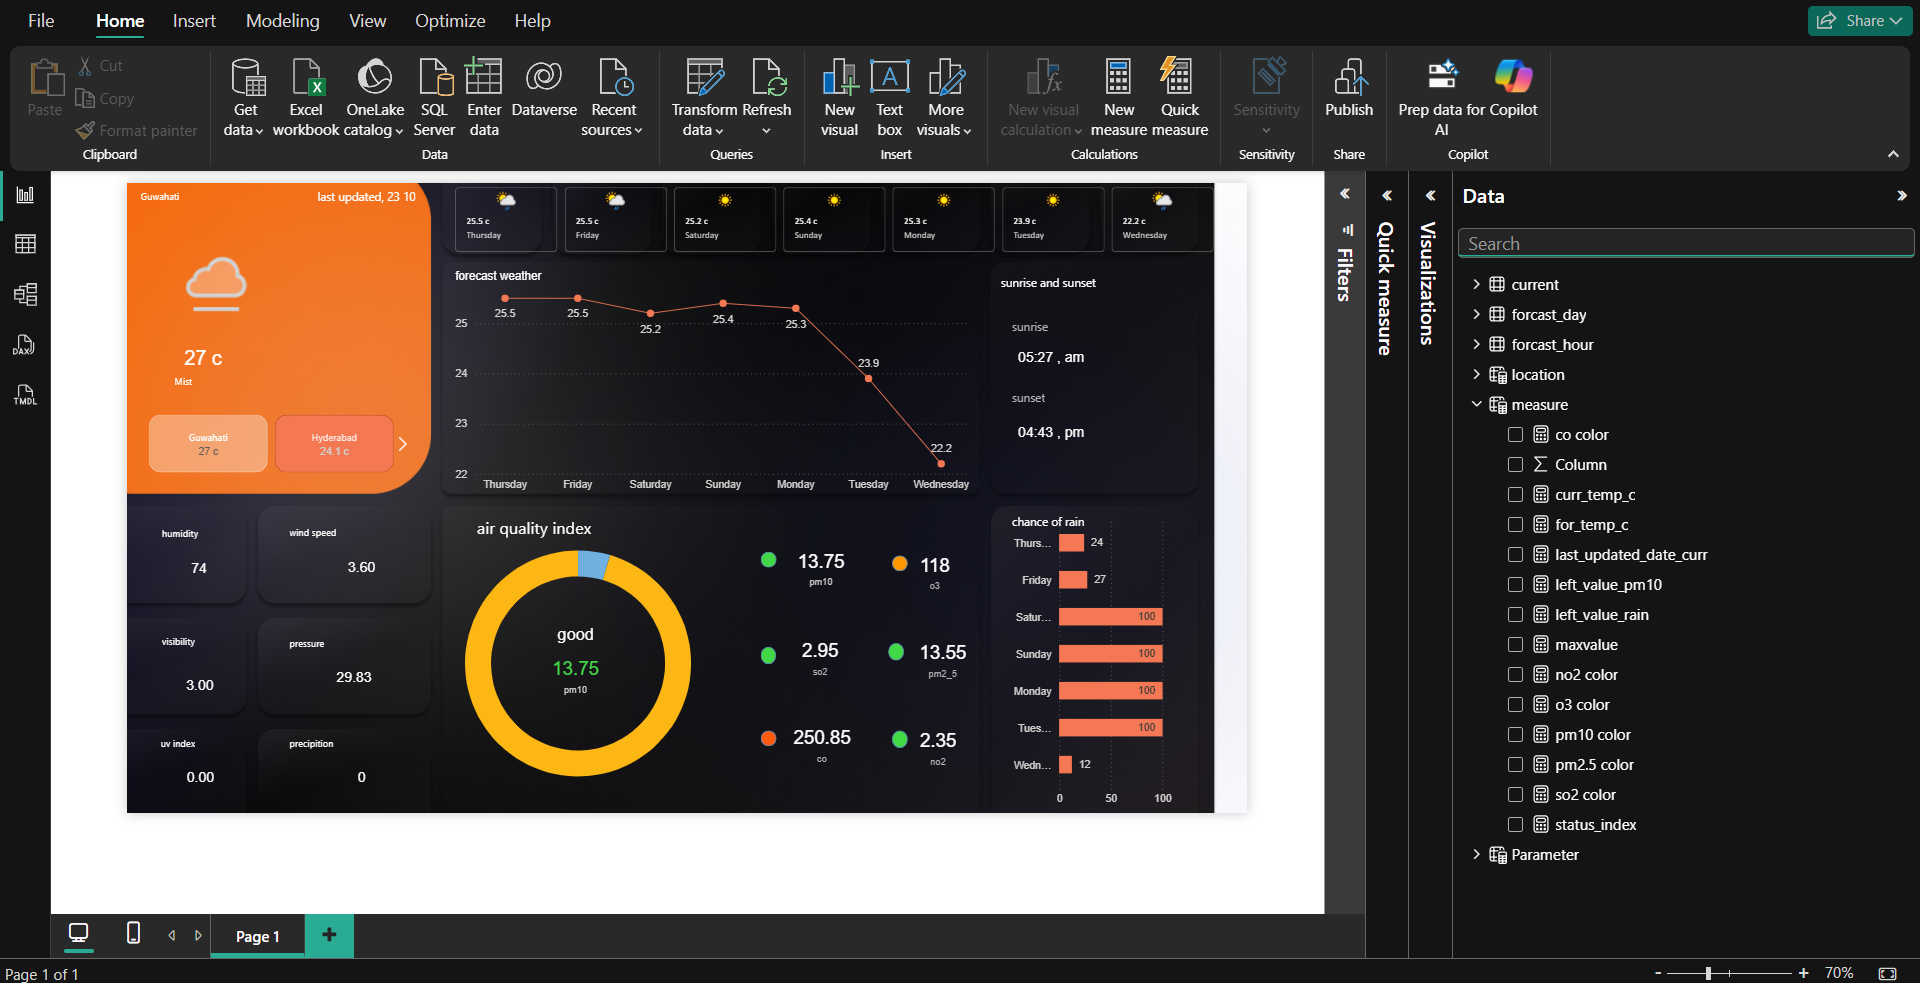

The page's visual inventory and layout, read from the dashboard file:
{"tool":"powerbi","page":{"name":"Page 1","canvas":[1280,720],"ordinal":0},"visuals":[{"type":"advancedSlicerVisual","fields":{"Values":["location.location.name"],"Label":["measure.curr_temp_c"]},"box":[0,260,330,76],"z":0},{"type":"card","fields":{"Values":["measure.curr_temp_c"]},"box":[0,182,174,38],"z":1000},{"type":"shape","box":[186,0,144,30],"z":2000},{"type":"shape","box":[16,0,146,30],"z":3000},{"type":"shape","box":[40,510,104,26],"z":4000},{"type":"shape","box":[40,386,104,28],"z":5000},{"type":"shape","box":[38,626,104,28],"z":6000},{"type":"shape","box":[186,386,104,26],"z":7000},{"type":"shape","box":[186,512,104,28],"z":8000},{"type":"shape","box":[186,626,104,28],"z":9000},{"type":"card","fields":{"Values":["Sum(current.current.humidity)"]},"box":[38,416,88,52],"z":10000},{"type":"card","fields":{"Values":["Sum(current.current.vis_km)"]},"box":[38,550,90,52],"z":11000},{"type":"card","fields":{"Values":["Sum(current.current.uv)"]},"box":[40,654,88,52],"z":12000},{"type":"card","fields":{"Values":["Sum(current.current.precip_in)"]},"box":[224,654,88,52],"z":13000},{"type":"advancedSlicerVisual","fields":{"Values":["forcast_day.day_name"]},"box":[370,0,880,84],"z":14000},{"type":"lineChart","title":"forecast weather","fields":{"Y":["Sum(forcast_day.forecast.forecastday.day.avgtemp_c)"],"Category":["forcast_day.day_name"]},"box":[370,98,604,262],"z":15000},{"type":"shape","box":[54,212,148,30],"z":16000},{"type":"cardVisual","fields":{"Data":["Min(current.current.condition.icon)"]},"box":[0,30,168.6,160],"z":17000},{"type":"shape","box":[998,98,146,30],"z":18000},{"type":"card","fields":{"Values":["Min(forcast_day.sunrise_day)"]},"box":[1012,186,90,26],"z":19000},{"type":"card","fields":{"Values":["Min(forcast_day.sunset_day)"]},"box":[1012,272,90,26],"z":20000},{"type":"shape","box":[1012,148,146,30],"z":21000},{"type":"shape","box":[1012,230,148,30],"z":22000},{"type":"shape","box":[1012,372,146,30],"z":24000},{"type":"shape","box":[400,368,232,48],"z":25000},{"type":"card","fields":{"Values":["Sum(current.current.pressure_in)"]},"box":[216,540,88,52],"z":26000},{"type":"card","fields":{"Values":["Sum(current.current.wind_kph)"]},"box":[224,414,88,52],"z":27000},{"type":"card","fields":{"Values":["Sum(current.current.air_quality.co)"]},"box":[745,605,97.5,70],"z":28000},{"type":"card","fields":{"Values":["Sum(current.current.air_quality.no2)"]},"box":[887.5,613.8,80,60],"z":29000},{"type":"card","fields":{"Values":["Sum(current.current.air_quality.o3)"]},"box":[892,416,64,56],"z":30000},{"type":"card","fields":{"Values":["Sum(current.current.air_quality.pm10)"]},"box":[752,402,84,76],"z":31000},{"type":"card","fields":{"Values":["Sum(current.current.air_quality.pm2_5)"]},"box":[888,510,88,68],"z":32000},{"type":"card","fields":{"Values":["Sum(current.current.air_quality.so2)"]},"box":[742,506,102,72],"z":33000},{"type":"shape","box":[870,526,18,20],"z":34000},{"type":"shape","box":[874,426,18,18],"z":35000},{"type":"shape","box":[874,626,18,20],"z":36000},{"type":"shape","box":[723.8,530,17.5,20],"z":37000},{"type":"shape","box":[724,626,18,18],"z":38000},{"type":"shape","box":[724,422,18,18],"z":39000},{"type":"card","fields":{"Values":["Sum(current.current.air_quality.pm10)"]},"box":[430,505.7,165.7,91.4],"z":40000},{"type":"donutChart","fields":{"Y":["Sum(current.current.air_quality.pm10)","measure.left_value_pm10"]},"box":[314.3,382.9,402.9,332.9],"z":41000},{"type":"barChart","fields":{"Y":["measure.left_value_rain"],"Category":["forcast_day.day_name"]},"box":[995.7,371.4,227.1,348.6],"z":41001}]}

Visuals, with their boxes on the page's 1280x720 design canvas (x1, y1, x2, y2). These are canvas units, not pixel positions in the 1920x983 screenshot, which may show the page scaled, cropped or inside an application window:
advancedSlicerVisual - location.location.name x measure.curr_temp_c: [x1=0, y1=260, x2=330, y2=336]
card - measure.curr_temp_c: [x1=0, y1=182, x2=174, y2=220]
shape: [x1=186, y1=0, x2=330, y2=30]
shape: [x1=16, y1=0, x2=162, y2=30]
shape: [x1=40, y1=510, x2=144, y2=536]
shape: [x1=40, y1=386, x2=144, y2=414]
shape: [x1=38, y1=626, x2=142, y2=654]
shape: [x1=186, y1=386, x2=290, y2=412]
shape: [x1=186, y1=512, x2=290, y2=540]
shape: [x1=186, y1=626, x2=290, y2=654]
card - Sum(current.current.humidity): [x1=38, y1=416, x2=126, y2=468]
card - Sum(current.current.vis_km): [x1=38, y1=550, x2=128, y2=602]
card - Sum(current.current.uv): [x1=40, y1=654, x2=128, y2=706]
card - Sum(current.current.precip_in): [x1=224, y1=654, x2=312, y2=706]
advancedSlicerVisual - forcast_day.day_name: [x1=370, y1=0, x2=1250, y2=84]
"forecast weather" lineChart: [x1=370, y1=98, x2=974, y2=360]
shape: [x1=54, y1=212, x2=202, y2=242]
cardVisual - Min(current.current.condition.icon): [x1=0, y1=30, x2=169, y2=190]
shape: [x1=998, y1=98, x2=1144, y2=128]
card - Min(forcast_day.sunrise_day): [x1=1012, y1=186, x2=1102, y2=212]
card - Min(forcast_day.sunset_day): [x1=1012, y1=272, x2=1102, y2=298]
shape: [x1=1012, y1=148, x2=1158, y2=178]
shape: [x1=1012, y1=230, x2=1160, y2=260]
shape: [x1=1012, y1=372, x2=1158, y2=402]
shape: [x1=400, y1=368, x2=632, y2=416]
card - Sum(current.current.pressure_in): [x1=216, y1=540, x2=304, y2=592]
card - Sum(current.current.wind_kph): [x1=224, y1=414, x2=312, y2=466]
card - Sum(current.current.air_quality.co): [x1=745, y1=605, x2=842, y2=675]
card - Sum(current.current.air_quality.no2): [x1=888, y1=614, x2=968, y2=674]
card - Sum(current.current.air_quality.o3): [x1=892, y1=416, x2=956, y2=472]
card - Sum(current.current.air_quality.pm10): [x1=752, y1=402, x2=836, y2=478]
card - Sum(current.current.air_quality.pm2_5): [x1=888, y1=510, x2=976, y2=578]
card - Sum(current.current.air_quality.so2): [x1=742, y1=506, x2=844, y2=578]
shape: [x1=870, y1=526, x2=888, y2=546]
shape: [x1=874, y1=426, x2=892, y2=444]
shape: [x1=874, y1=626, x2=892, y2=646]
shape: [x1=724, y1=530, x2=741, y2=550]
shape: [x1=724, y1=626, x2=742, y2=644]
shape: [x1=724, y1=422, x2=742, y2=440]
card - Sum(current.current.air_quality.pm10): [x1=430, y1=506, x2=596, y2=597]
donutChart - Sum(current.current.air_quality.pm10) x measure.left_value_pm10: [x1=314, y1=383, x2=717, y2=716]
barChart - measure.left_value_rain x forcast_day.day_name: [x1=996, y1=371, x2=1223, y2=720]
